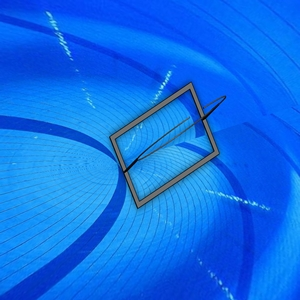circle: (109, 81, 228, 210)
